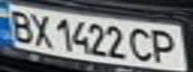1: (51, 16, 72, 52)
2: (103, 22, 130, 61), (84, 20, 109, 57)
4: (69, 18, 90, 54)
B: (3, 7, 39, 44)
C: (127, 26, 160, 64)
P: (148, 26, 184, 65)
X: (24, 11, 54, 48)
